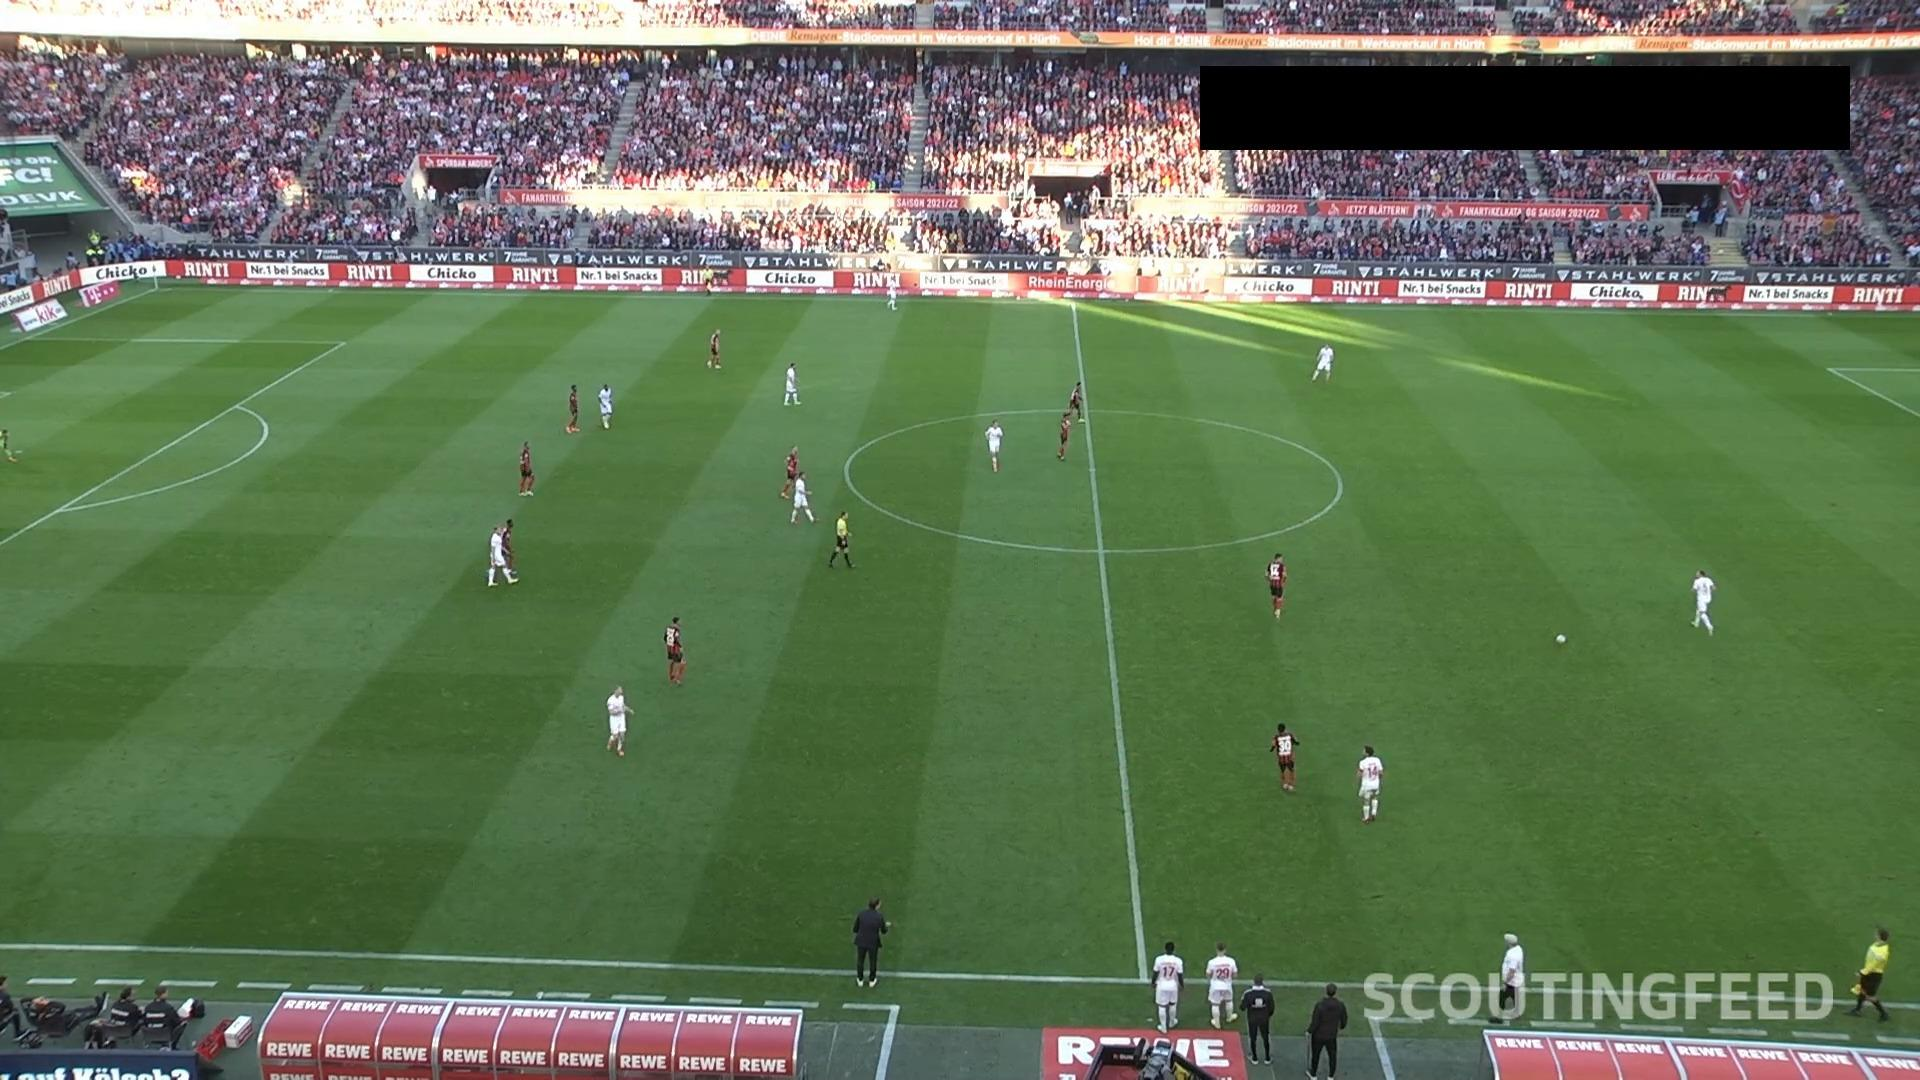ball: (1555, 632, 1568, 645)
